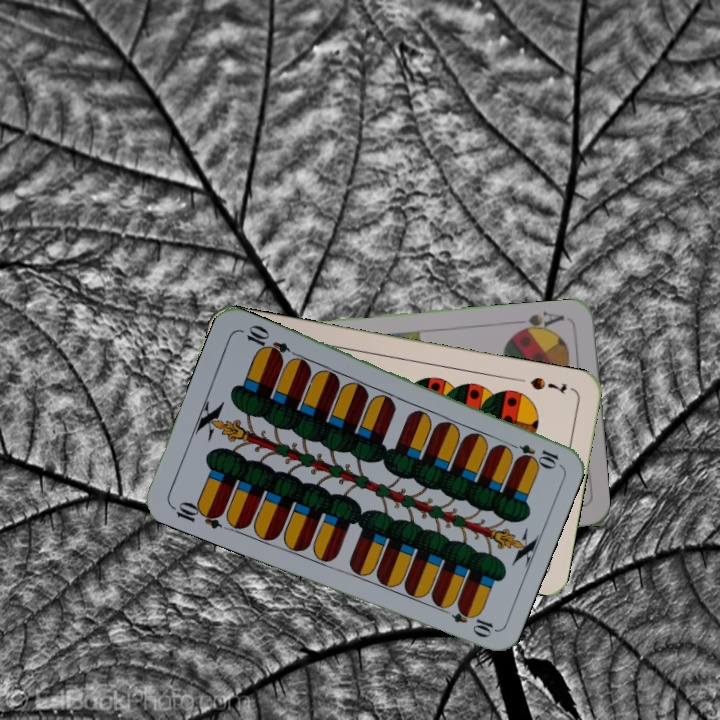E10: (167, 497, 226, 532), (503, 438, 561, 469)
S7: (526, 373, 569, 397)
SA: (512, 308, 567, 337)
